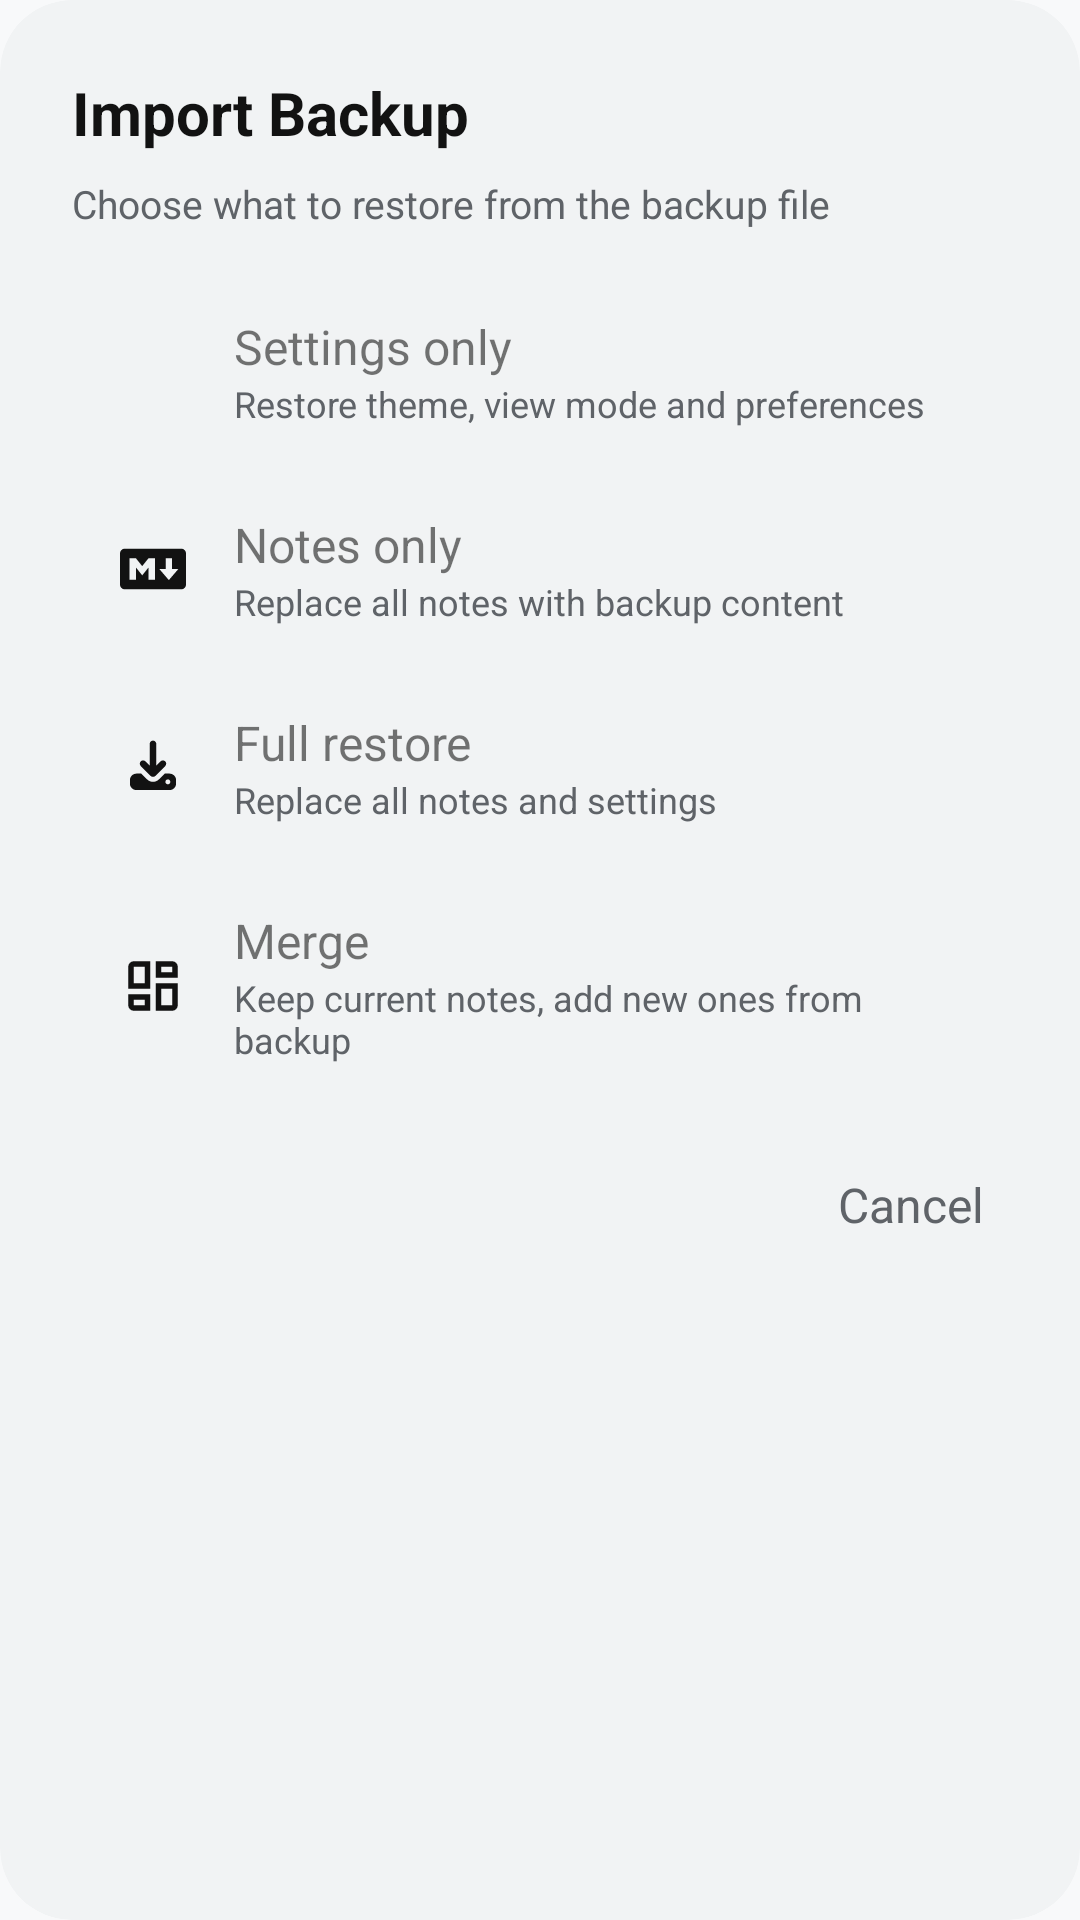

Where to tap for icons on this 1080*1920 app screen, as point (x, y):
download: point (153, 765)
